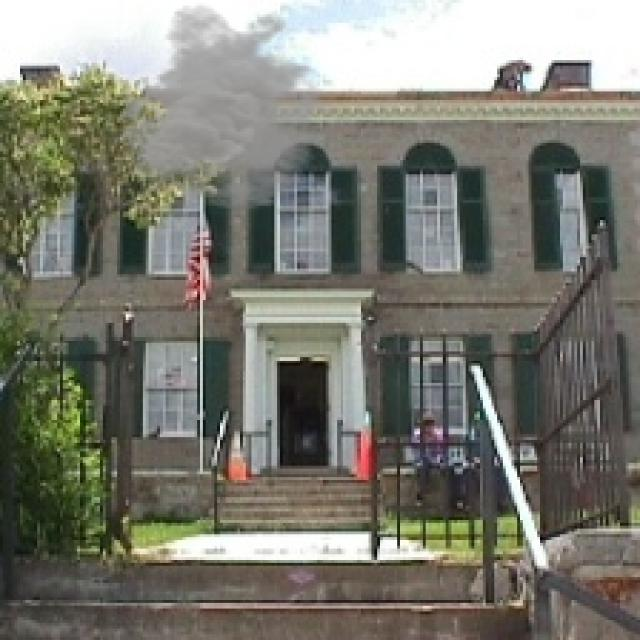smoke: (109, 3, 348, 211)
